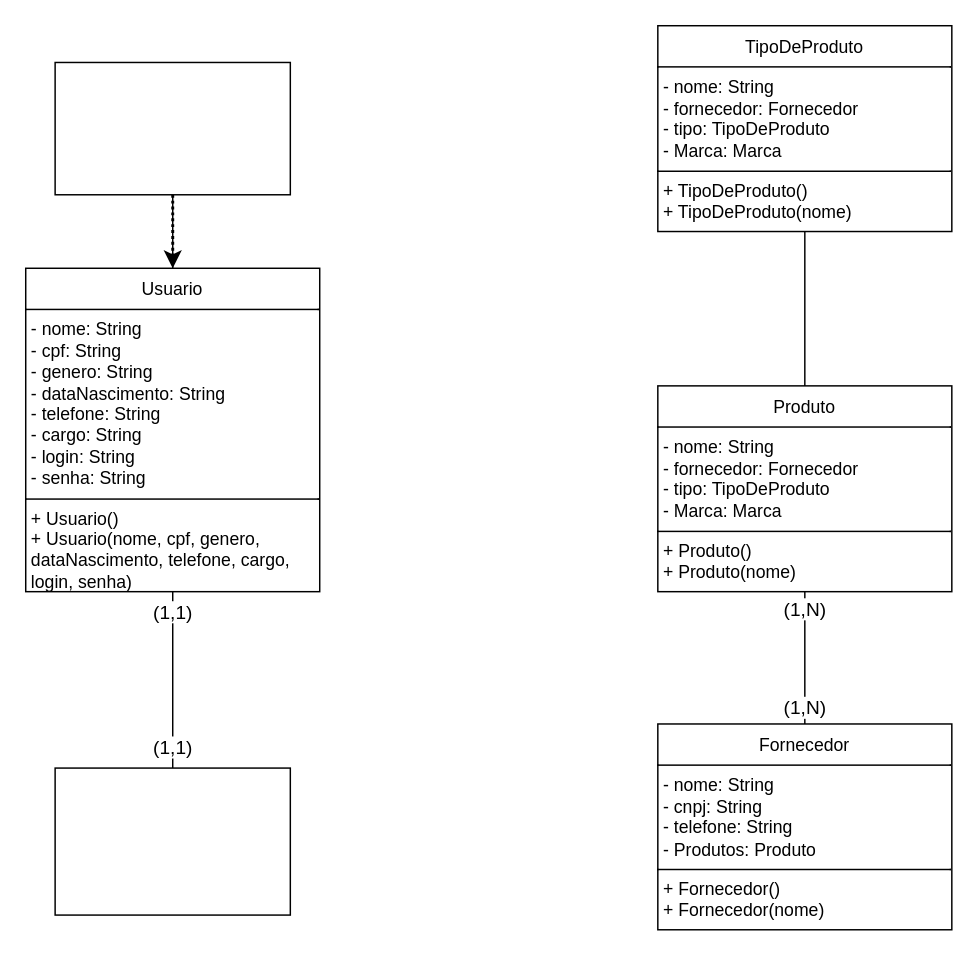
The diagram is 978 pixels wide and 956 high, and some of its shapes have lost their labels. Here are the shapes that lost their labels. From the top down, the centre of each, then its label:
At pixel 172 128: "<<interface>> Autenticavel + autenticar(String, String): boolean".
At pixel 172 841: "<<enumeration>> Cargo GERENTE ESTOQUISTA REPOSITOR".
